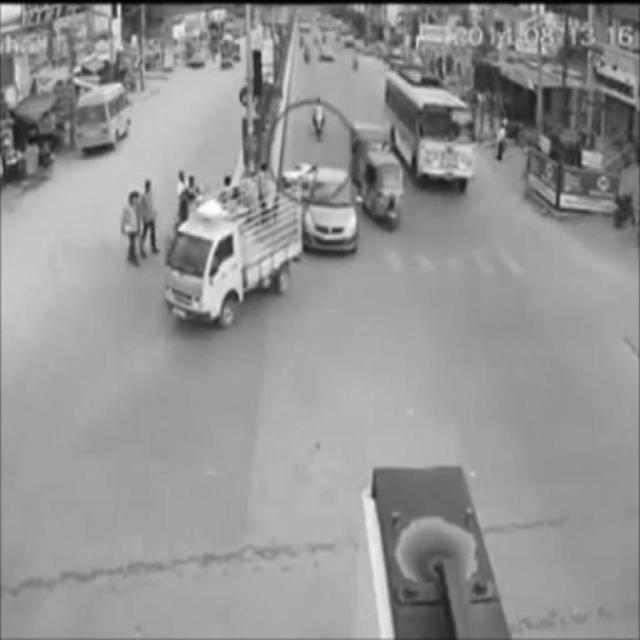person: (123, 192, 140, 265), (142, 180, 157, 251)
vehicle: (165, 183, 299, 327), (388, 70, 474, 188), (306, 163, 356, 255), (77, 82, 129, 148), (365, 142, 405, 224), (313, 96, 328, 140)
